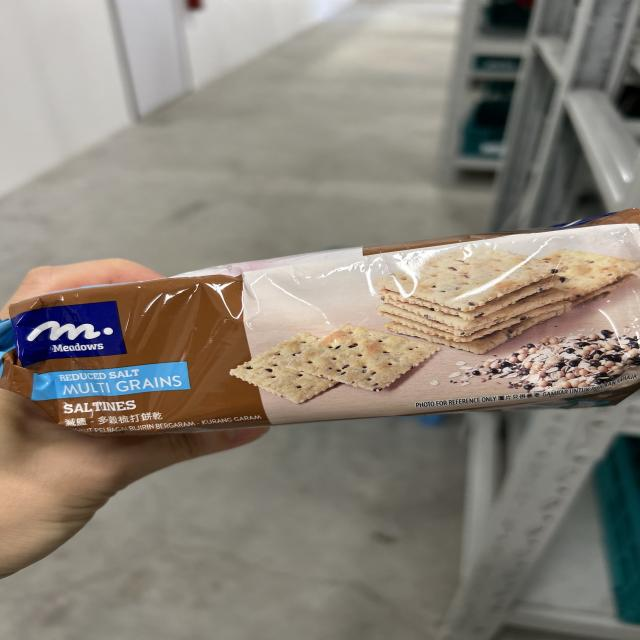object_name: (17, 293, 640, 412)
